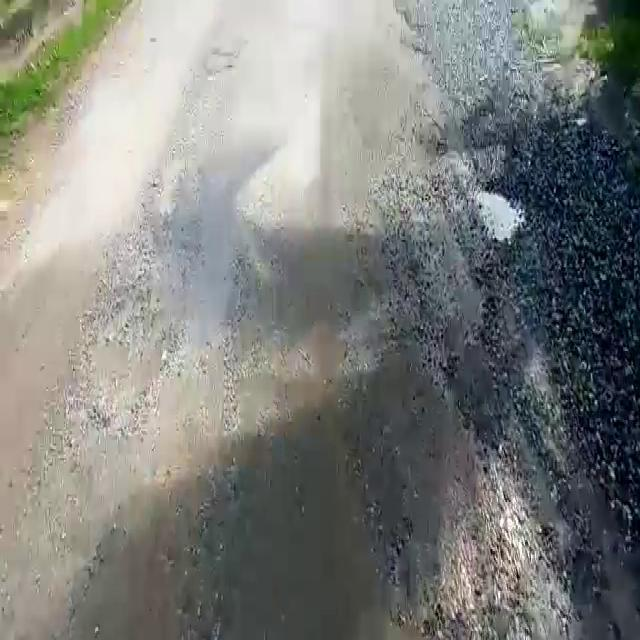pothole: (476, 185, 532, 245)
